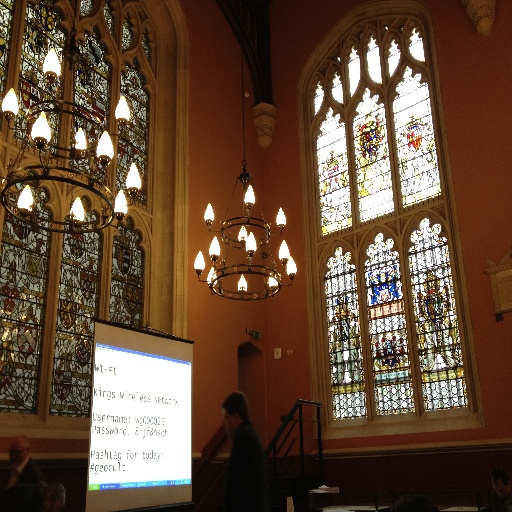hand: (18, 450, 30, 467)
